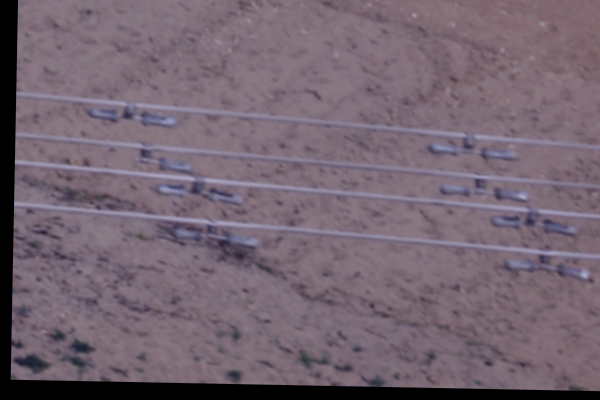damper: (167, 212, 263, 249), (501, 245, 590, 282), (487, 203, 579, 238), (425, 128, 519, 162), (154, 173, 245, 207), (436, 170, 530, 202), (83, 97, 178, 128)
damper_defect: (128, 139, 194, 175)
